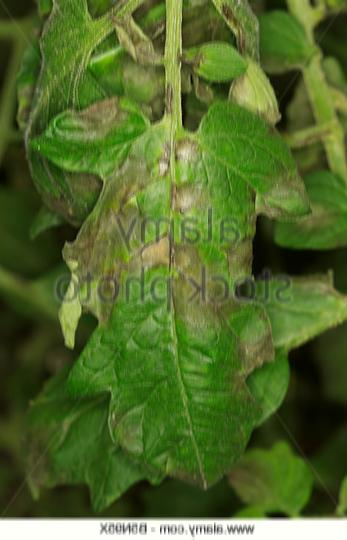Tomato leaf late blight: (28, 80, 311, 506)
